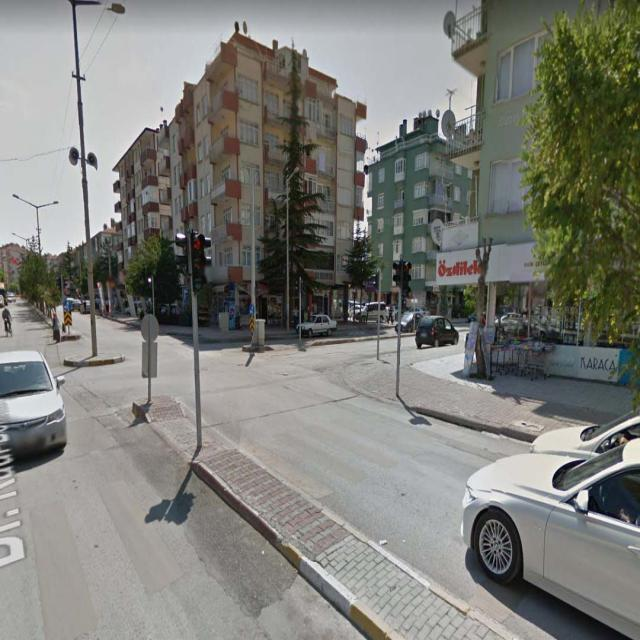ilerisol: (64, 300, 71, 311)
kirmizi: (188, 232, 206, 290)
